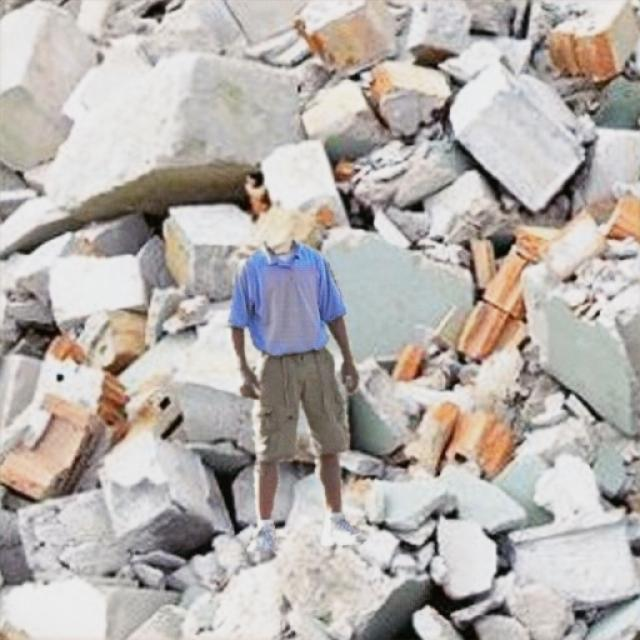Person in Rubble: (225, 239, 360, 550)
